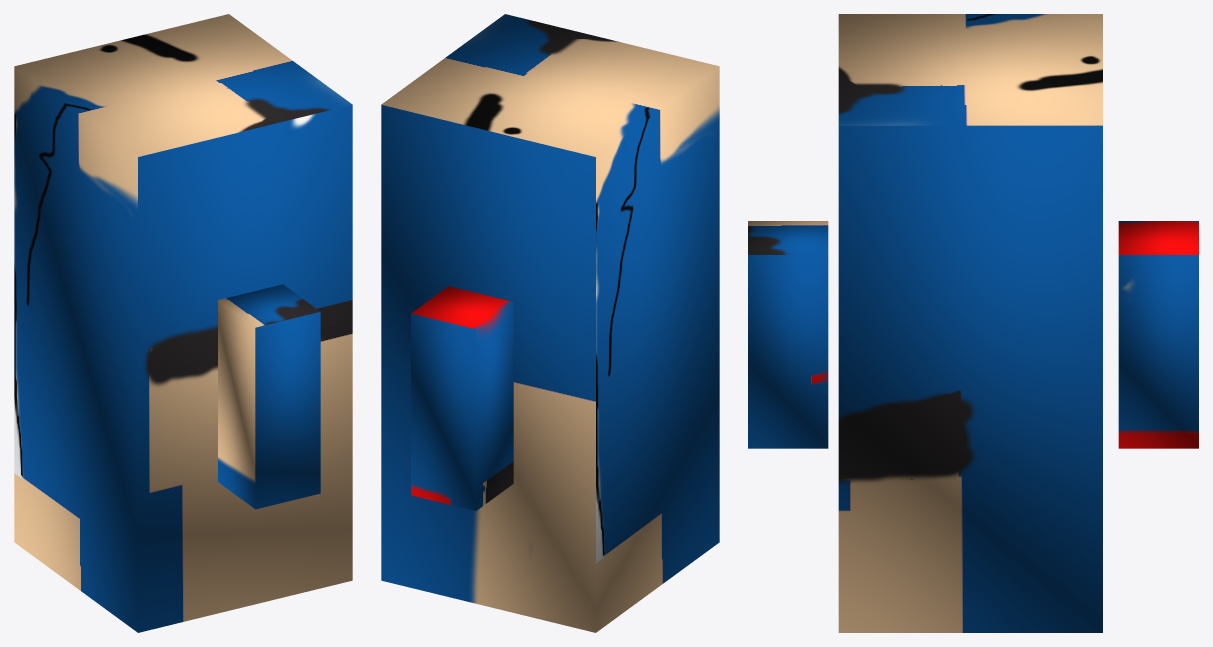
File: character.fbx
3 views of the same model, side by side, from view 1: azimuth 30°, elevation 25°; view 2: azimuth 150°, elevation 25°; view 3: azimuth 270°, elevation 25° (orthographic). The views are drawn at different scales.
Visible parts, largest first — view 1: Cube1_default; view 2: Cube1_default; view 3: Cube1_default.
Boxes of the visible parts, x1=… form: Cube1_default: x1=14, y1=14, x2=352, y2=632; Cube1_default: x1=381, y1=14, x2=719, y2=632; Cube1_default: x1=748, y1=14, x2=1198, y2=632.
Size of the model in its own units: 2 by 4.24 by 3.41.
